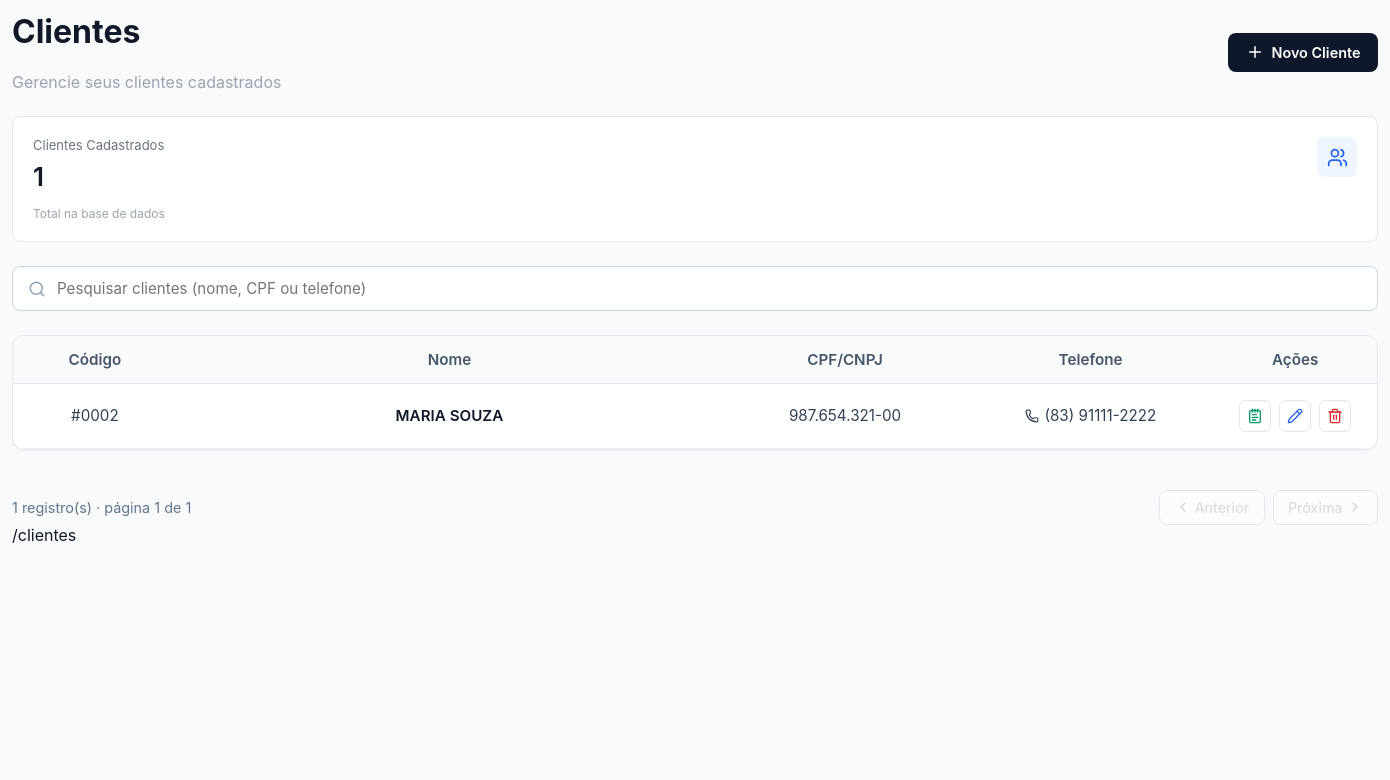
Scenario: Página de Clientes › integração com Ordens de Serviço › 'Visualizar Ordens de Serviço' navega para /ordens-servico?cliente=<nome>
The image size is (1390, 780).
Check: the text "MARIA SOUZA" is shown, box [396,406,503,425]
Click the button titled "Visualizar Ordens de Serviço".
click(1255, 416)  # box [1239,400,1271,432]
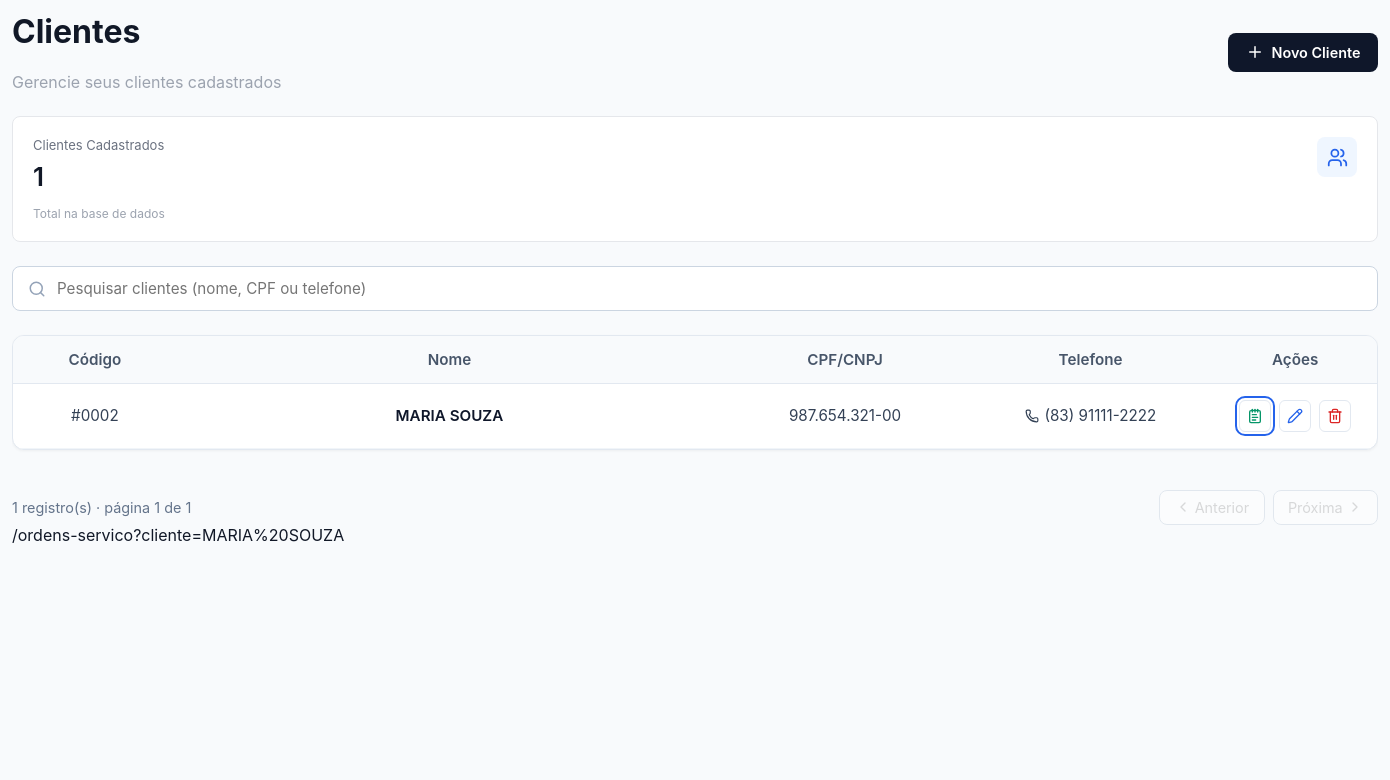
Check: the text with test id "localizacao" reads "/ordens-servico?cliente=MARIA%20SOUZA", box [12,525,344,545]
